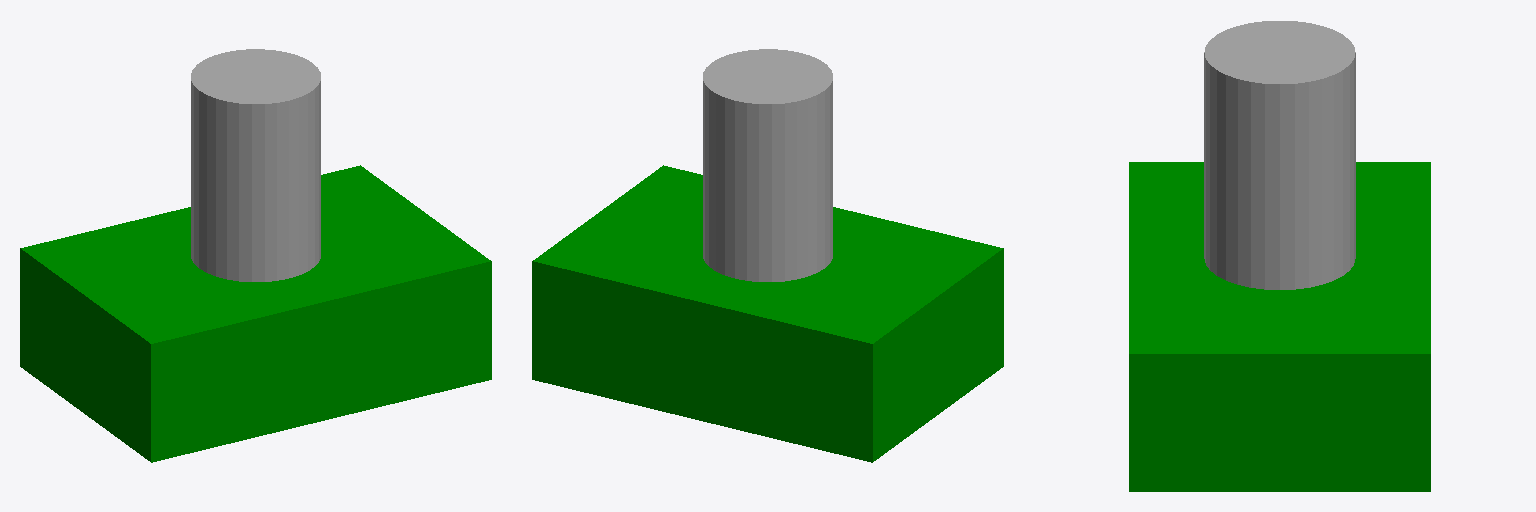
robot.urdf — my_robot:
<?xml version="1.0"?>
<robot name="my_robot">
<material name="green">
        <color rgba="0 0.6 0 1" />
    </material>
<material name="gray">
    <color rgba="0.7 0.7 0.7 1" />
</material>
<link name="base_link">
        <visual>
            <geometry>
                <box size="0.6 0.4 0.2" />
            </geometry>
            <origin xyz="0 0 0.1" rpy="0 0 0" />
            <material name="green" />
        </visual>
    </link>
<link name="shoulder_link">
    <visual>
        <geometry>
            <cylinder radius="0.1" length="0.3" />
        </geometry>
        <origin xyz="0 0 0.15" rpy="0 0 0" />
        <material name="gray" />
    </visual>
</link>
<joint name="base_shoulder_joint" type="revolute">
    <parent link="base_link" />
    <child link="shoulder_link" />
    <origin xyz="0 0 0.2" rpy="0 0 0" />
    <axis xyz="0 0 1" />
    <limit lower="-3.14" upper="3.14" velocity="100" effort="100"/>
</joint>
</robot>

--- Facts derived from the render (not from the file) ---
Views: 3 orthographic renders of the robot side by side, from view 1: azimuth 30°, elevation 25°; view 2: azimuth 150°, elevation 25°; view 3: azimuth 270°, elevation 25°.
Model my_robot with 2 links and 1 joints (1 revolute), rooted at base_link, posed every joint at zero.
Visible links, largest first — view 1: base_link, shoulder_link; view 2: base_link, shoulder_link; view 3: base_link, shoulder_link.
Boxes of the visible links, left/top/right/bottom form: base_link: left=20, top=165, right=491, bottom=462; shoulder_link: left=191, top=49, right=320, bottom=281; base_link: left=532, top=165, right=1003, bottom=462; shoulder_link: left=703, top=49, right=832, bottom=281; base_link: left=1129, top=162, right=1430, bottom=491; shoulder_link: left=1204, top=21, right=1355, bottom=289.
Bounding box of the posed robot: 0.6 × 0.4 × 0.5 m (x, y, z).
Geometry: primitives only (box / cylinder / sphere), no mesh files.